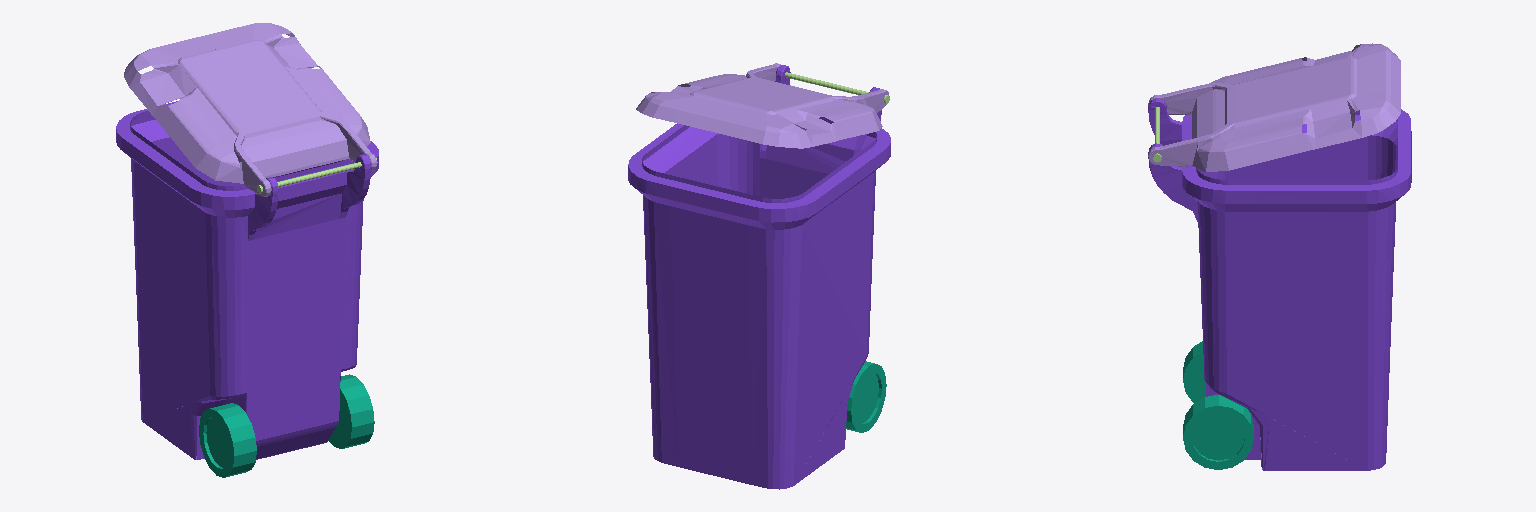
The model's file is dustbin_001.obj.
3 views of the same model, side by side, from view 1: azimuth 30°, elevation 25°; view 2: azimuth 150°, elevation 25°; view 3: azimuth 270°, elevation 25° (orthographic).
Visible parts, largest first — view 1: Box001, Box002, Cylinder001; view 2: Box001, Box002, Cylinder001; view 3: Box001, Box002, Cylinder001.
Boxes of the visible parts, x1=… form: Box001: x1=116, y1=101, x2=378, y2=459; Box002: x1=124, y1=23, x2=376, y2=196; Cylinder001: x1=199, y1=374, x2=374, y2=477; Box001: x1=628, y1=65, x2=890, y2=489; Box002: x1=636, y1=63, x2=888, y2=148; Cylinder001: x1=846, y1=361, x2=886, y2=432; Box001: x1=1148, y1=98, x2=1411, y2=470; Box002: x1=1148, y1=43, x2=1400, y2=171; Cylinder001: x1=1183, y1=341, x2=1253, y2=469.
Bounding box in the file's own units: 119 × 225 × 148.